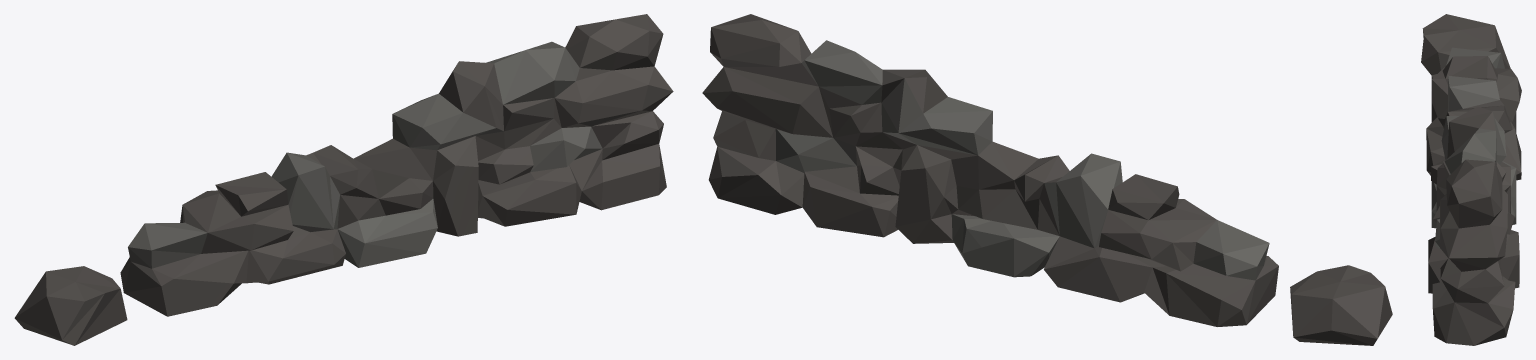
The model's file is kingdom_SM_Env_StoneWall_02.gltf.
The picture shows the model from 3 angles, left to right: view 1: azimuth 30°, elevation 25°; view 2: azimuth 150°, elevation 25°; view 3: azimuth 270°, elevation 25°; orthographic projection. The views are drawn at different scales.
Visible parts, largest first — view 1: SM_Env_StoneWall_02; view 2: SM_Env_StoneWall_02; view 3: SM_Env_StoneWall_02.
Part boxes in pixels (<box>): SM_Env_StoneWall_02: <box>14,14,673,345</box>; SM_Env_StoneWall_02: <box>702,14,1392,345</box>; SM_Env_StoneWall_02: <box>1421,14,1521,345</box>.
Size of the model in its own units: 4.26 by 1.08 by 0.608.
Materials: 1 (1 with a texture image).
